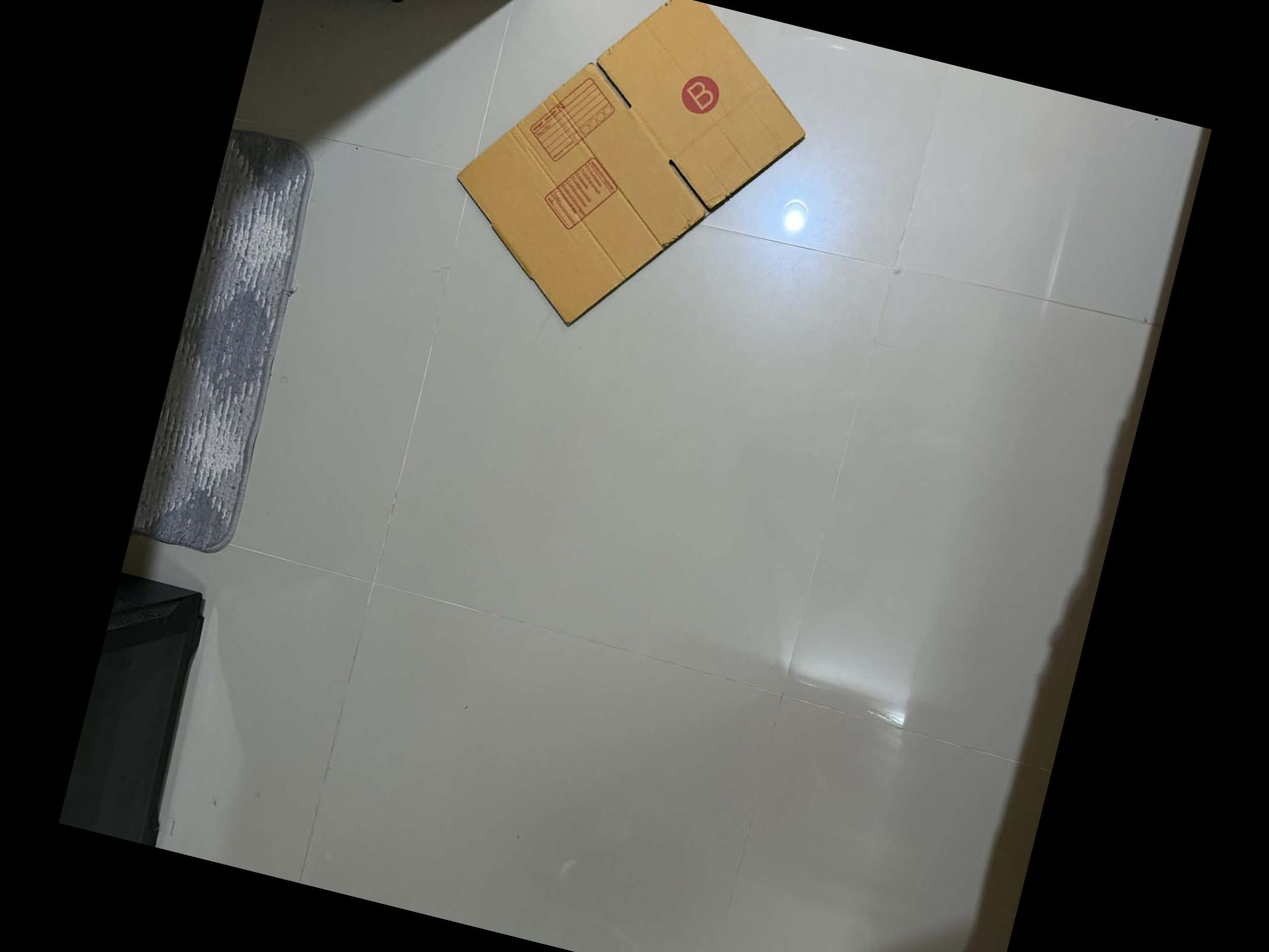box: (518, 68, 620, 172), (536, 148, 628, 245), (674, 72, 725, 120)
class0: (423, 0, 833, 376)
